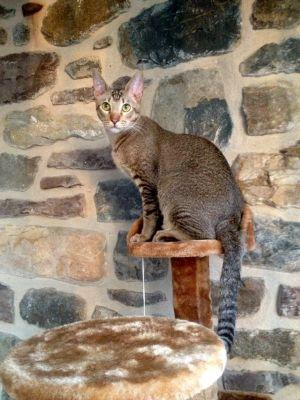bengal: (87, 68, 147, 141)
